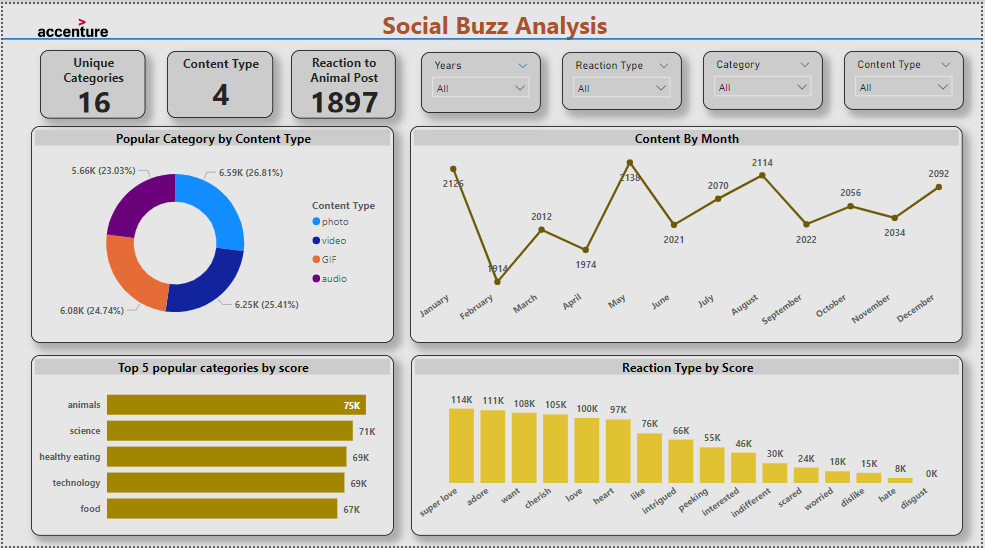

The page's visual inventory and layout, read from the dashboard file:
{"tool":"powerbi","page":{"name":"social buzz analysis","canvas":[1300,720],"ordinal":0},"visuals":[{"type":"card","title":"Unique Categories","fields":{"Values":["Count(social buzz FullDataset.Category)"]},"box":[49.8,61.5,140.5,90.7],"z":0},{"type":"card","title":"Content Type","fields":{"Values":["Count(social buzz FullDataset.Content Type)"]},"box":[218.1,62.6,141.2,89.5],"z":1000},{"type":"donutChart","title":"Popular Category by Content Type","fields":{"Category":["social buzz FullDataset.Content Type"],"Y":["CountNonNull(social buzz FullDataset.Category)"]},"box":[37.7,162.2,482.3,288],"z":2000},{"type":"clusteredBarChart","title":"Top 5 popular categories by score","fields":{"Y":["Sum(social buzz FullDataset.Score)"],"Category":["social buzz FullDataset.Category"]},"box":[37.7,466.9,482.3,240.4],"z":3000},{"type":"lineChart","title":"Content By Month ","fields":{"Y":["CountNonNull(social buzz FullDataset.Content ID)"],"Category":["social buzz FullDataset.Datetime.Variation.Date Hierarchy.Month"]},"box":[541,162.2,733.9,288],"z":4000},{"type":"textbox","box":[218,0,870.7,57.1],"z":5000},{"type":"card","title":"Reaction to Animal Post","fields":{"Values":["CountNonNull(social buzz FullDataset.Reaction Type)"]},"box":[382,61.5,139,90.7],"z":6000},{"type":"slicer","fields":{"Values":["social buzz FullDataset.start of month"]},"box":[555,63.7,159.4,81.1],"z":7000},{"type":"slicer","fields":{"Values":["social buzz FullDataset.Content Type"]},"box":[1116.9,62.3,159.4,78.3],"z":8000},{"type":"slicer","fields":{"Values":["social buzz FullDataset.Category"]},"box":[929.6,62.3,159.4,78.3],"z":9000},{"type":"slicer","fields":{"Values":["social buzz FullDataset.Reaction Type"]},"box":[742.3,63.7,159.4,76.9],"z":10000},{"type":"columnChart","title":"Reaction Type by Score","fields":{"Category":["social buzz FullDataset.Reaction Type"],"Y":["Sum(social buzz FullDataset.Score)"]},"box":[541.5,466.8,733.2,240],"z":11000},{"type":"shape","box":[0,39.5,1299.5,13.2],"z":12000},{"type":"image","box":[27.8,0,128.8,62.9],"z":13000}]}

Visuals, with their boxes in screenshot pixels (x1, y1, x2, y2), scaled from the page's 1300x720 canvas onto the 985x548 screenshot:
"Unique Categories" card: box=[38, 47, 144, 116]
"Content Type" card: box=[165, 48, 272, 116]
"Popular Category by Content Type" donutChart: box=[29, 123, 394, 343]
"Top 5 popular categories by score" clusteredBarChart: box=[29, 355, 394, 538]
"Content By Month " lineChart: box=[410, 123, 966, 343]
textbox: box=[165, 0, 825, 43]
"Reaction to Animal Post" card: box=[289, 47, 395, 116]
slicer - social buzz FullDataset.start of month: box=[421, 48, 541, 110]
slicer - social buzz FullDataset.Content Type: box=[846, 47, 967, 107]
slicer - social buzz FullDataset.Category: box=[704, 47, 825, 107]
slicer - social buzz FullDataset.Reaction Type: box=[562, 48, 683, 107]
"Reaction Type by Score" columnChart: box=[410, 355, 966, 538]
shape: box=[0, 30, 984, 40]
image: box=[21, 0, 119, 48]
